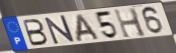5: (92, 10, 118, 40)
6: (141, 5, 166, 36)
A: (76, 13, 102, 43)
B: (22, 18, 50, 48)
H: (112, 7, 149, 39)
N: (43, 14, 77, 45)
